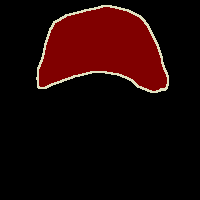hat: (37, 6, 168, 92)
